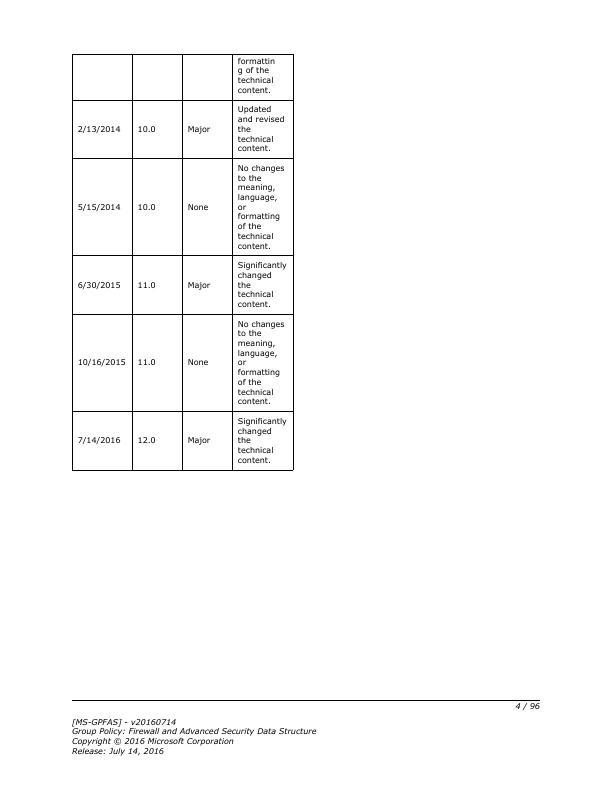table: (72, 53, 295, 470)
text: (68, 715, 319, 757)
